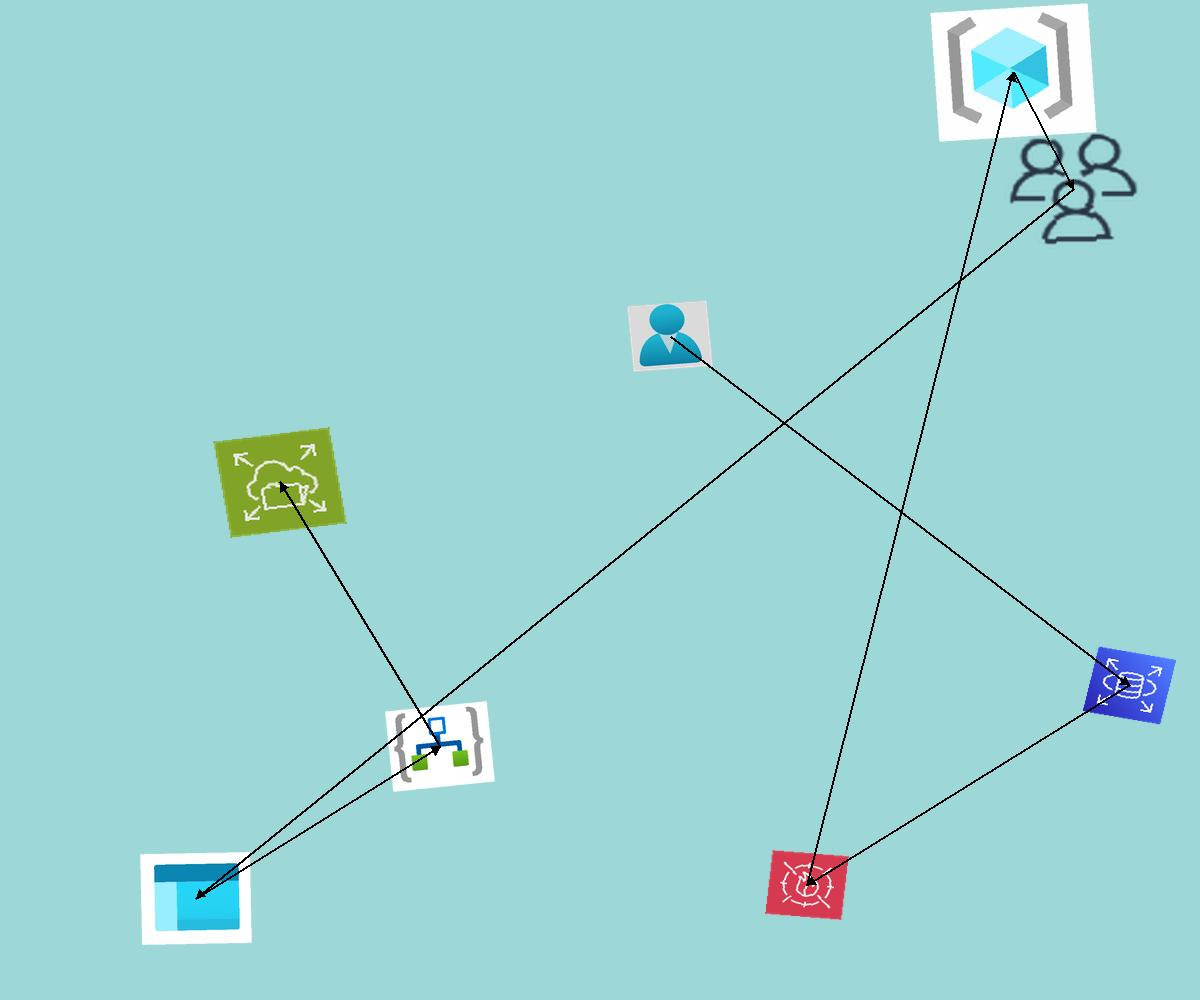AWS-EFS: (213, 427, 347, 538)
AWS-RDS: (1082, 646, 1177, 725)
AWS-Res_Users: (999, 127, 1148, 251)
AWS-WAF: (765, 850, 849, 920)
Azure_integration-204-Logic-Apps: (385, 701, 495, 792)
Azure_management-portal: (140, 852, 252, 945)
Azure_resource_group: (930, 3, 1097, 142)
Azure_users: (627, 300, 713, 372)
